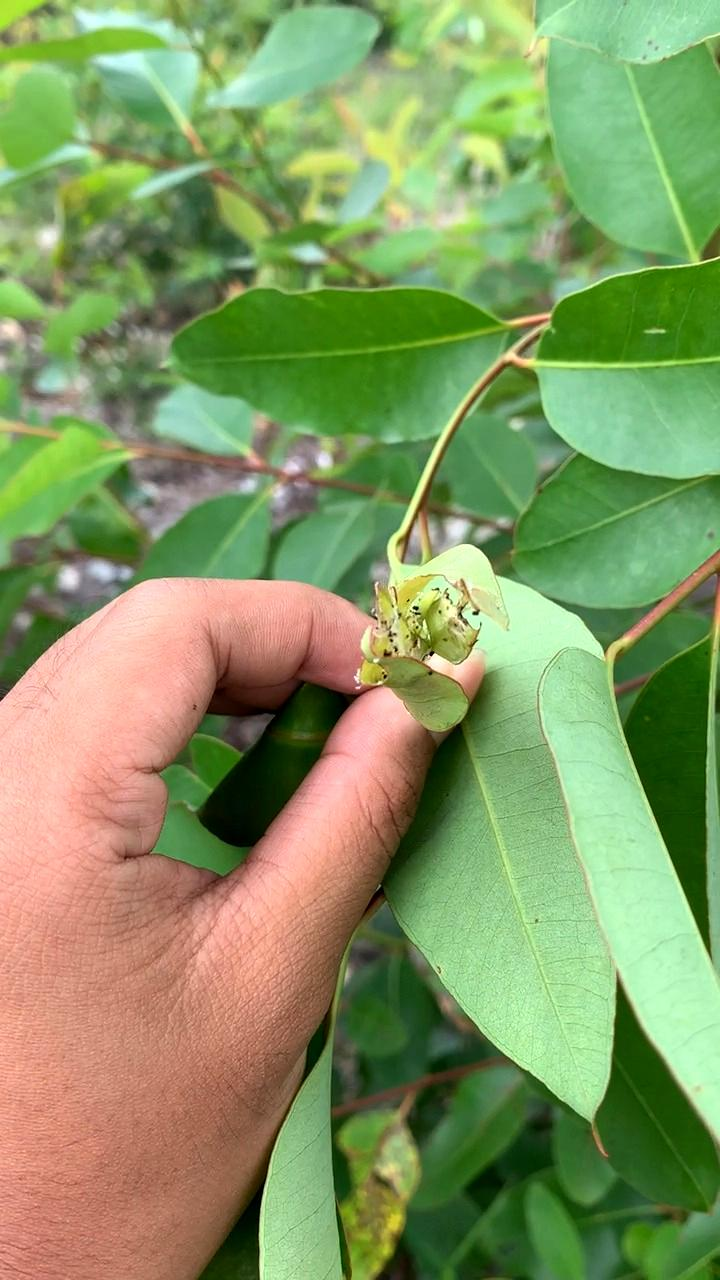Leaf Roller - Leaf: (358, 538, 507, 737)
